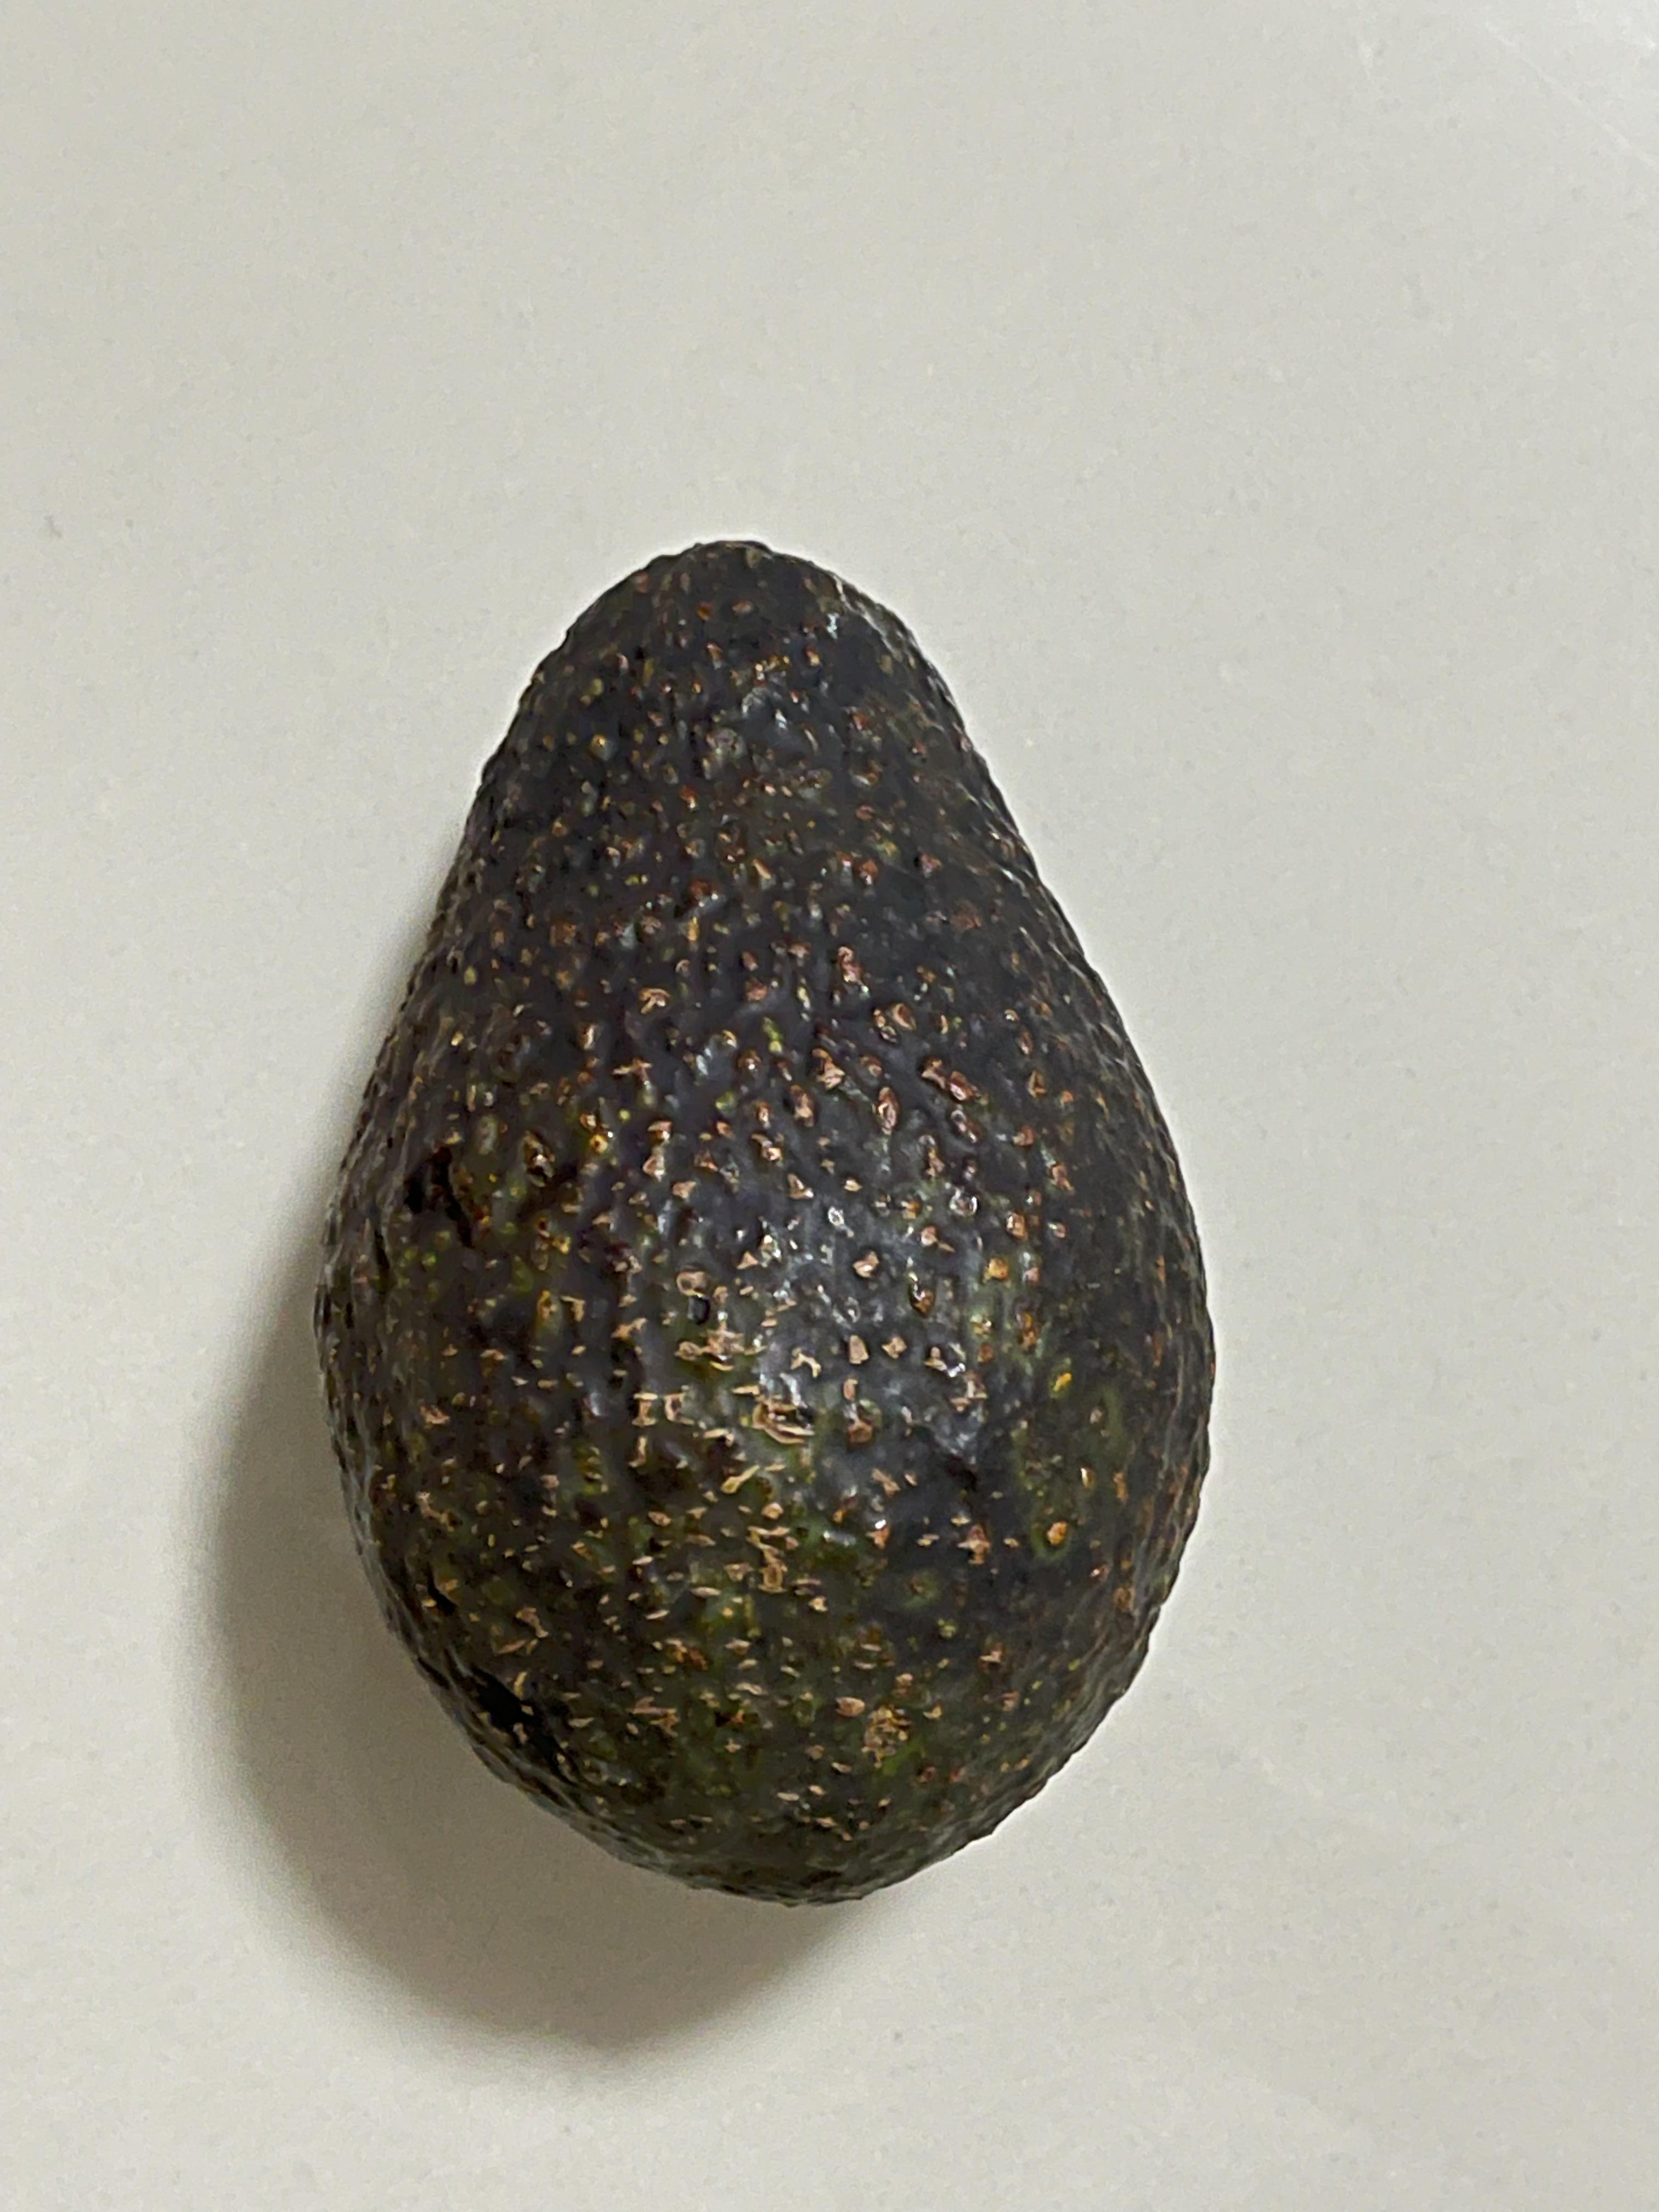Level1: (286, 500, 1260, 1939)
